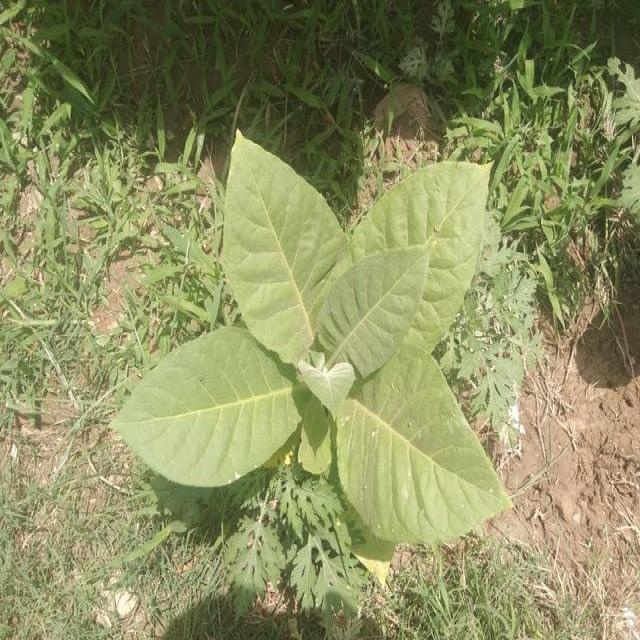crop: (110, 122, 518, 558)
